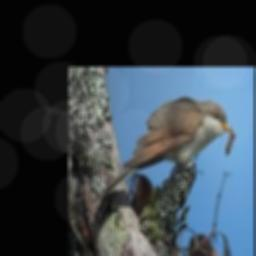Cuckoo: (101, 97, 233, 198)
